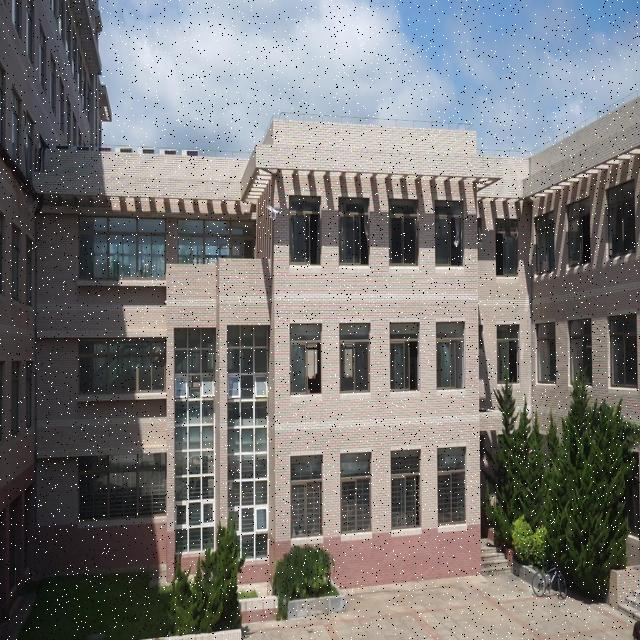UAV: (266, 205, 281, 219)
